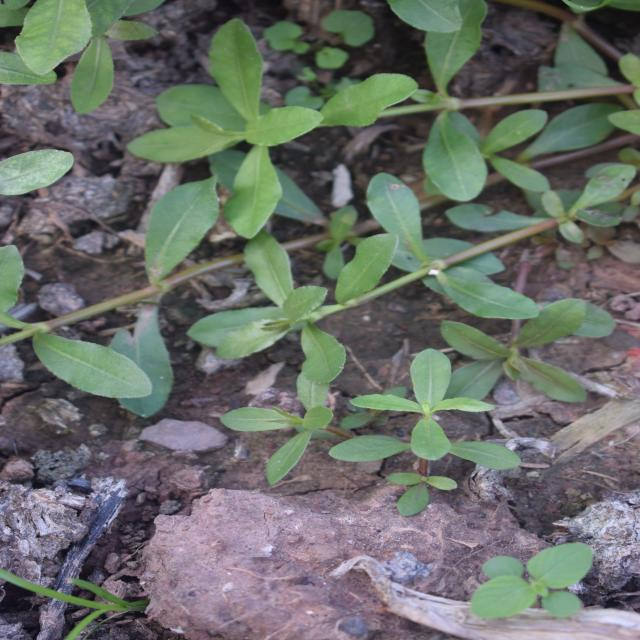Alligatorweed: (0, 126, 256, 502), (216, 142, 380, 430), (356, 118, 486, 434), (220, 18, 400, 211)
